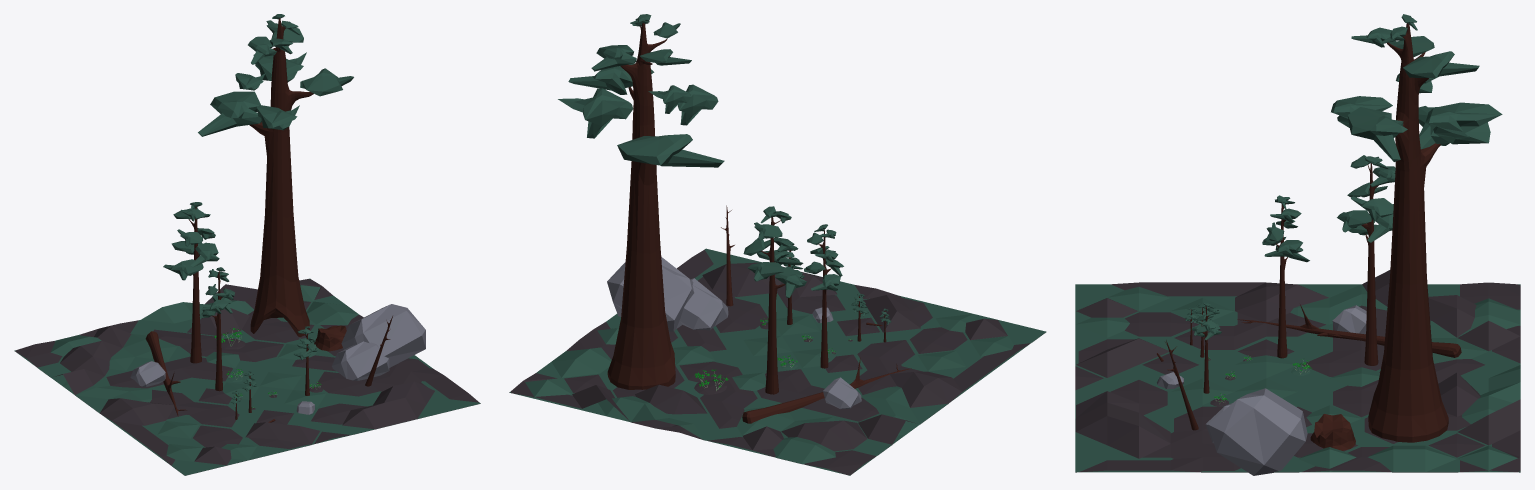
File: Sequioa_Scene4.dae
3 renders of one model, left to right at view 1: azimuth 30°, elevation 25°; view 2: azimuth 150°, elevation 25°; view 3: azimuth 270°, elevation 25°, orthographic. The views are drawn at different scales.
Visible parts, largest first — view 1: ground, mossGround, giantSequioa, Cube_424, Icosphere, Cube_422, sequoia001_002, Icosphere_001, Icosphere_007, Cube_423, Icosphere_008, Cube (+2 smaller); view 2: ground, mossGround, giantSequioa, Icosphere, Cube_424, Icosphere_008, Cube_422, sequoia001_002, sequoia001_005, Icosphere_001, Icosphere_007, Cube_423 (+3 smaller); view 3: ground, mossGround, giantSequioa, Cube_424, Icosphere_008, Icosphere_001, sequoia001_002, Cube, Icosphere_002, sequoia001_005, Icosphere_007, sequioa002 (+4 smaller).
Part boxes in pixels (x1,y1,x2,y2): ground: (15,279,480,475); mossGround: (14,278,480,475); giantSequioa: (249,18,313,336); Cube_424: (341,304,425,367); Icosphere: (198,91,261,136); Cube_422: (332,341,389,380); sequoia001_002: (189,207,202,363); Icosphere_001: (300,68,353,96); Icosphere_007: (256,105,299,130); Cube_423: (130,361,165,386); Icosphere_008: (253,52,306,82); Cube: (314,325,346,351); ground: (509,249,1044,475); mossGround: (509,248,1046,475); giantSequioa: (607,23,675,389); Icosphere: (617,134,724,167); Cube_424: (607,257,694,331); Icosphere_008: (558,88,633,138); Cube_422: (680,278,728,330); sequoia001_002: (761,217,785,394); sequoia001_005: (742,357,911,423); Icosphere_001: (568,63,654,94); Icosphere_007: (677,84,718,125); Cube_423: (823,377,861,409); ground: (1075,270,1520,472); mossGround: (1075,284,1520,472); giantSequioa: (1368,23,1448,442); Cube_424: (1208,388,1307,475); Icosphere_008: (1425,102,1502,144); Icosphere_001: (1347,107,1407,161); sequoia001_002: (1361,163,1378,365); Cube: (1310,414,1355,450); Icosphere_002: (1403,51,1479,77); sequoia001_005: (1237,304,1461,357); Icosphere_007: (1331,96,1392,127); sequioa002: (1276,203,1287,358).
Bounding box in the file's own units: 20.59 × 20 × 21.64.
